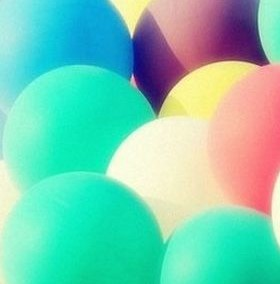Balloon: (1, 173, 162, 284), (2, 63, 148, 174), (135, 1, 262, 109), (207, 66, 280, 206), (1, 1, 135, 77), (114, 118, 214, 212), (162, 206, 280, 284)
